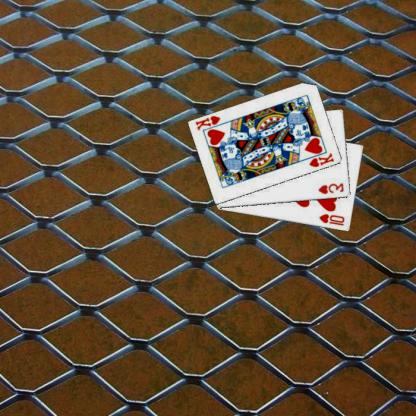10H: (318, 212, 348, 227)
3H: (318, 180, 346, 196)
KH: (195, 114, 223, 132), (308, 151, 337, 168)
